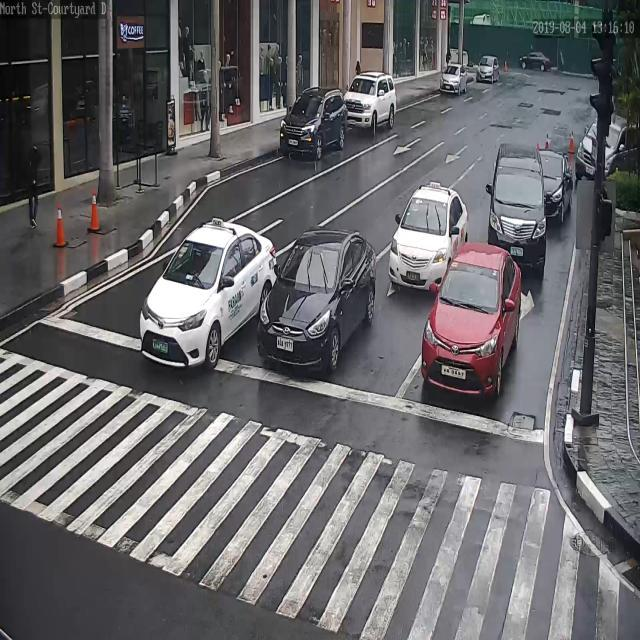car: (140, 221, 277, 370), (255, 229, 378, 374), (421, 242, 524, 402), (388, 182, 469, 295), (280, 86, 347, 160), (344, 73, 399, 132), (538, 149, 573, 225), (441, 63, 467, 96), (520, 49, 549, 72), (476, 54, 499, 81)
van: (488, 142, 545, 276), (576, 116, 640, 180)
